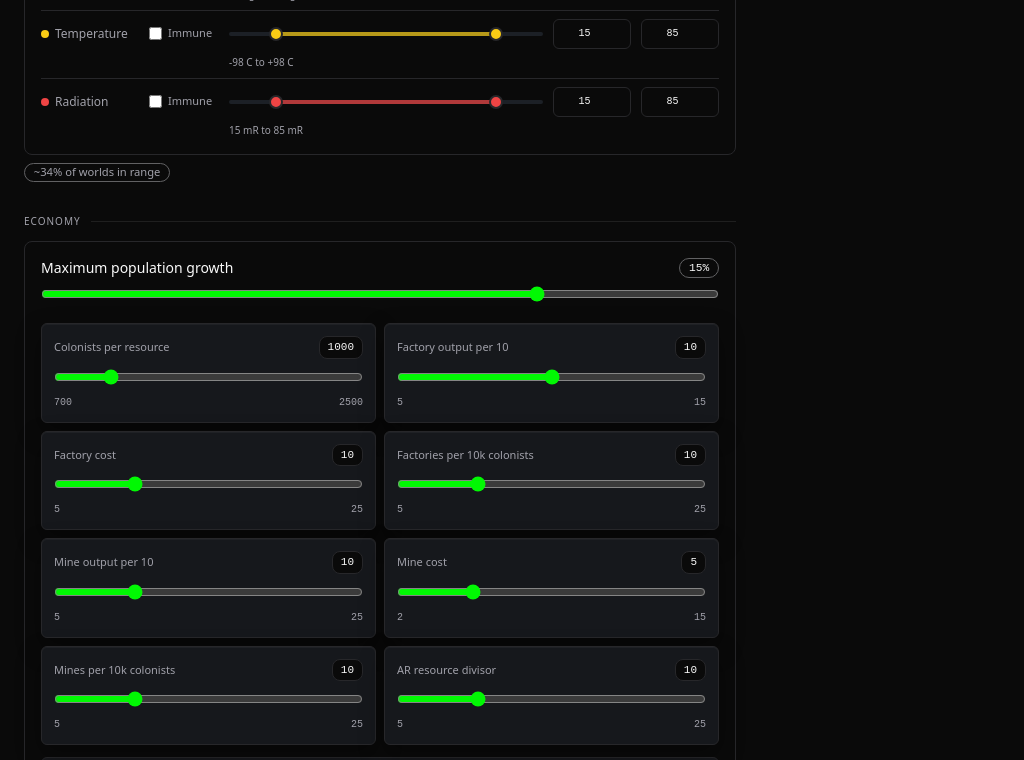
Test: RaceSelectionScreen › updates visible race points from preview results after economy edits
(page scrolled)
Set the slider named "Colonists per resource" to "700" at (62, 377), box [54, 369, 363, 385]
(page scrolled)
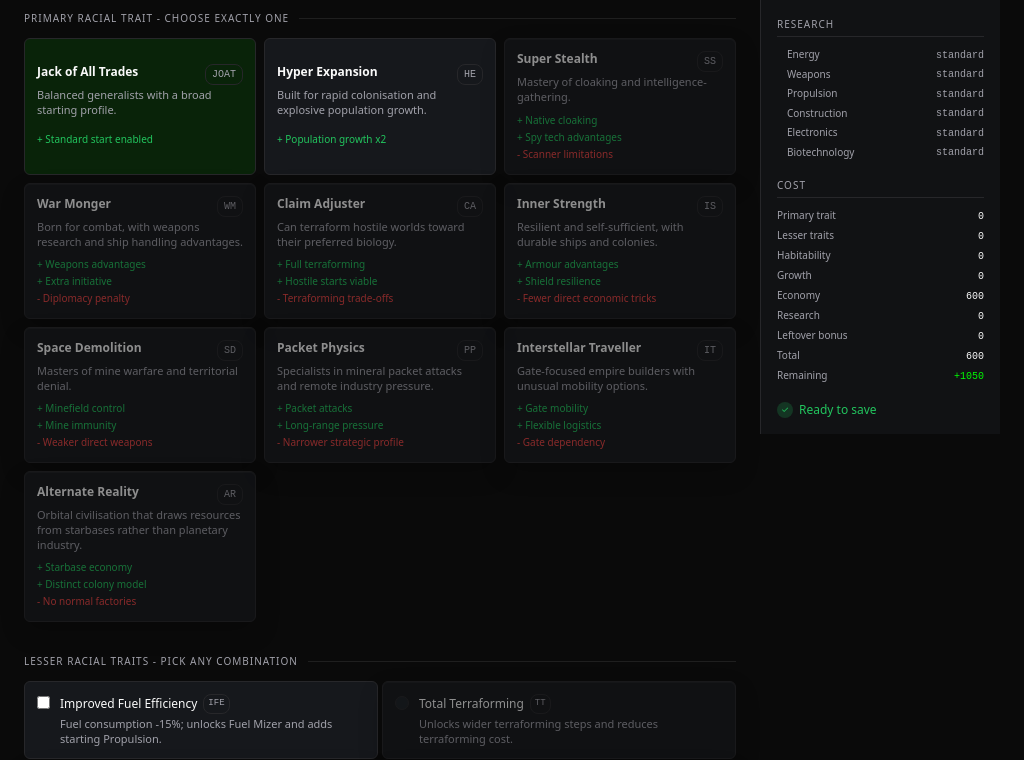
Check: the text "+1050" is shown, box [954, 369, 984, 384]
